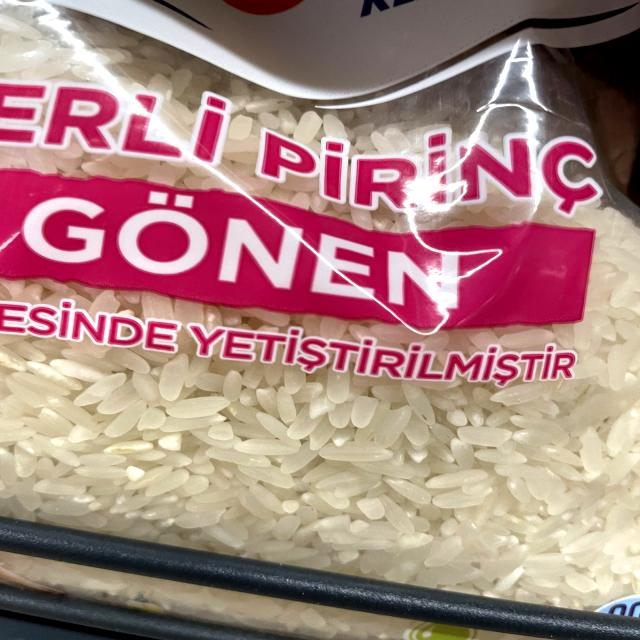rice: (20, 367, 609, 548)
